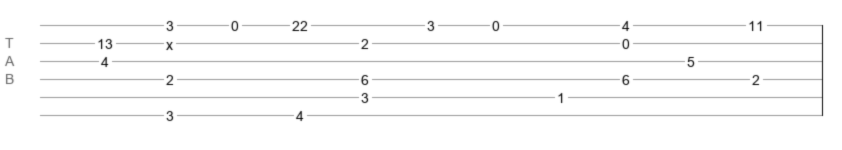0: (231, 18, 239, 28), (492, 18, 500, 28), (622, 36, 630, 46)
1: (557, 90, 565, 100)
11: (748, 18, 764, 28)
13: (97, 36, 113, 46)
2: (166, 72, 174, 82), (361, 36, 369, 46), (752, 72, 760, 82)
22: (292, 18, 308, 28)
3: (166, 18, 174, 28), (166, 108, 174, 118), (361, 90, 369, 100), (427, 18, 435, 28)
4: (101, 54, 109, 64), (296, 108, 304, 118), (622, 18, 630, 28)
5: (687, 54, 695, 64)
6: (361, 72, 369, 82), (622, 72, 630, 82)
x: (166, 37, 173, 45)
